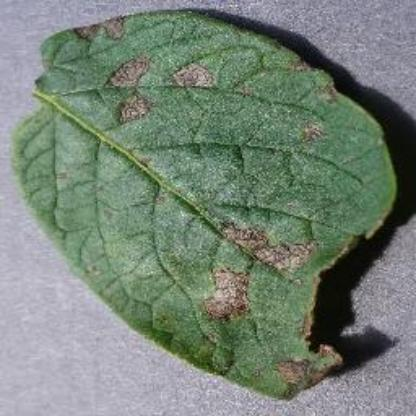Early-Blight: (12, 6, 416, 400)
